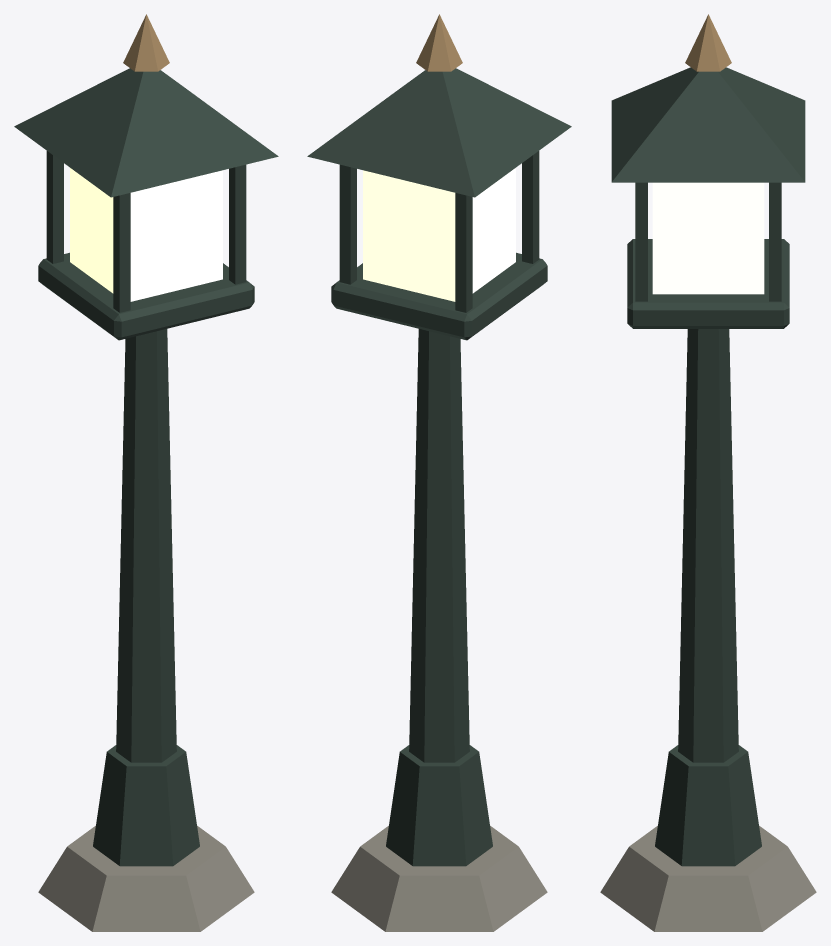
Rendered from lantern.glb.
The picture shows the model from 3 angles, left to right: view 1: azimuth 30°, elevation 25°; view 2: azimuth 150°, elevation 25°; view 3: azimuth 270°, elevation 25°; orthographic projection.
Parts seen in each view (by area): view 1: surface, lantern-glow; view 2: surface, lantern-glow; view 3: surface, lantern-glow.
Part boxes in pixels (<box>): surface: <box>14,14,278,931</box>; lantern-glow: <box>70,168,222,301</box>; surface: <box>307,14,571,931</box>; lantern-glow: <box>363,168,515,301</box>; surface: <box>600,14,816,931</box>; lantern-glow: <box>652,182,764,294</box>.
Bounding box in the file's own units: 0.4837 × 2.42 × 0.54.
